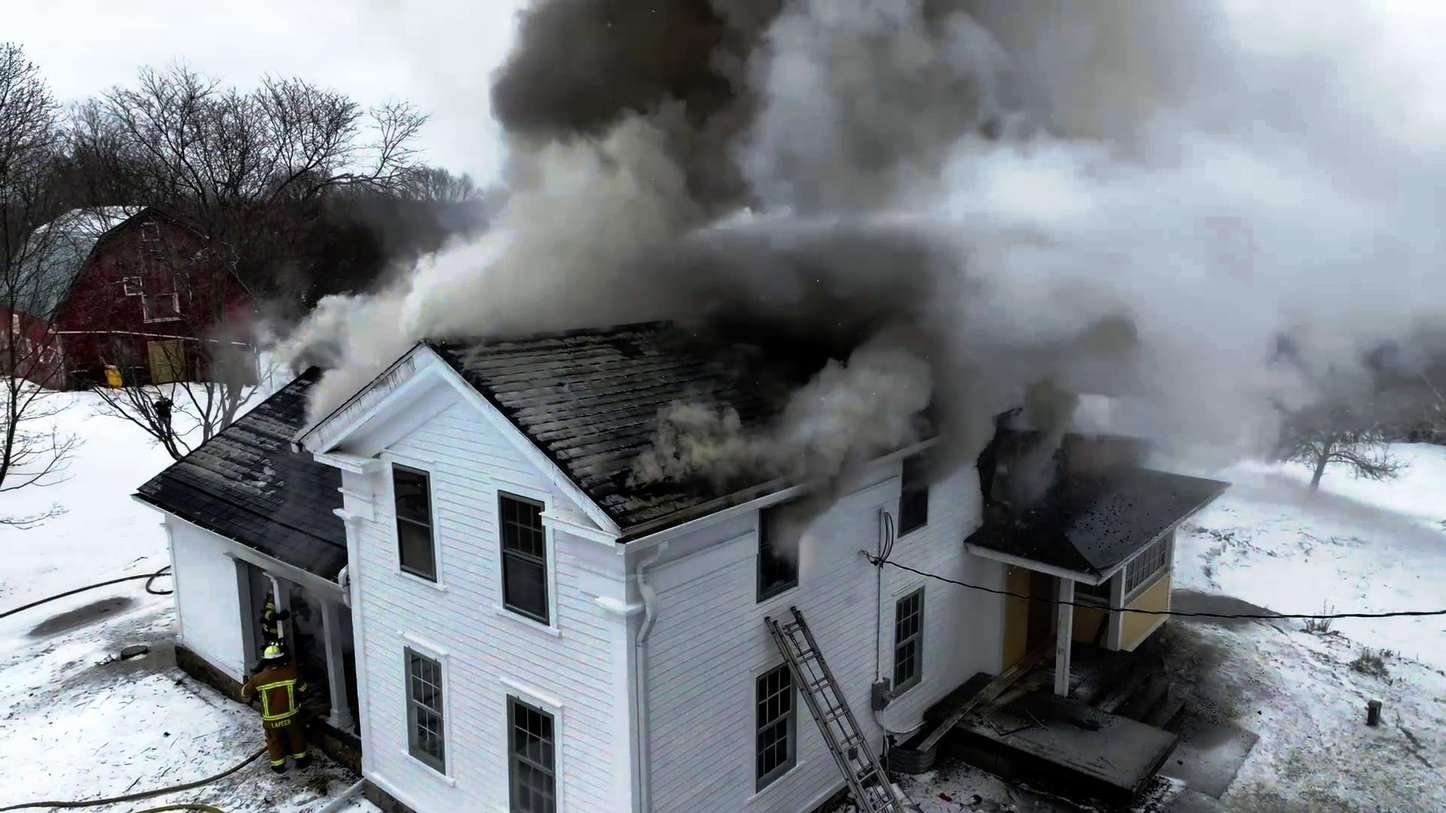smoke: (543, 17, 1446, 309)
